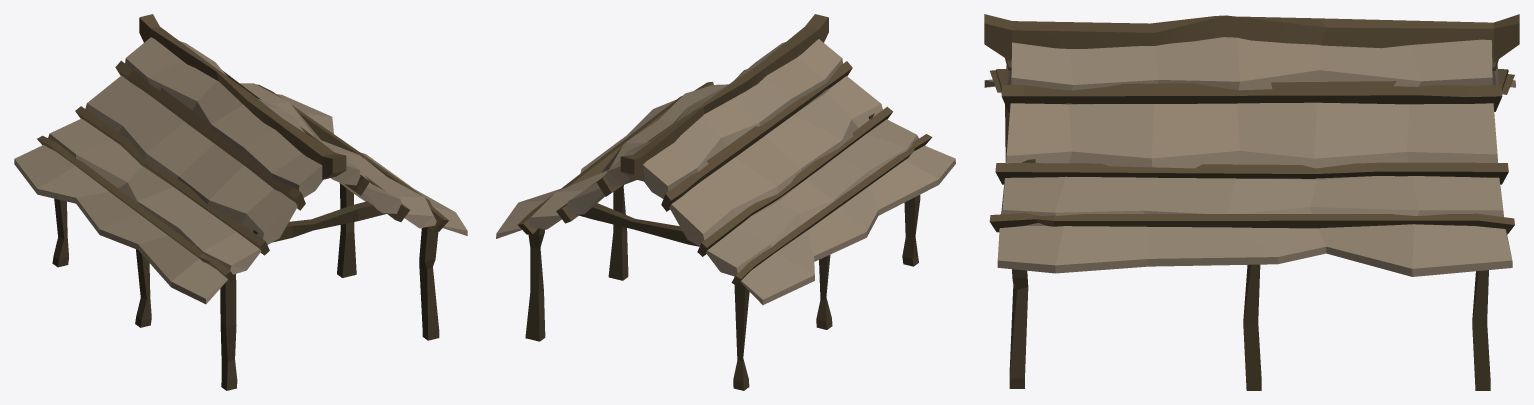
Rendered from SM_Bld_Rickety_House_03.glb.
3 views of the same model, side by side, from view 1: azimuth 30°, elevation 25°; view 2: azimuth 150°, elevation 25°; view 3: azimuth 270°, elevation 25° (orthographic). The views are drawn at different scales.
Parts seen in each view (by area): view 1: SM_Bld_Rickety_House_03; view 2: SM_Bld_Rickety_House_03; view 3: SM_Bld_Rickety_House_03.
Part boxes in pixels (x1,y1,x2,y2): SM_Bld_Rickety_House_03: (14,14,467,390); SM_Bld_Rickety_House_03: (496,14,955,390); SM_Bld_Rickety_House_03: (984,14,1519,390).
Size of the model in its own units: 0.0544 by 0.038 by 0.0618.
